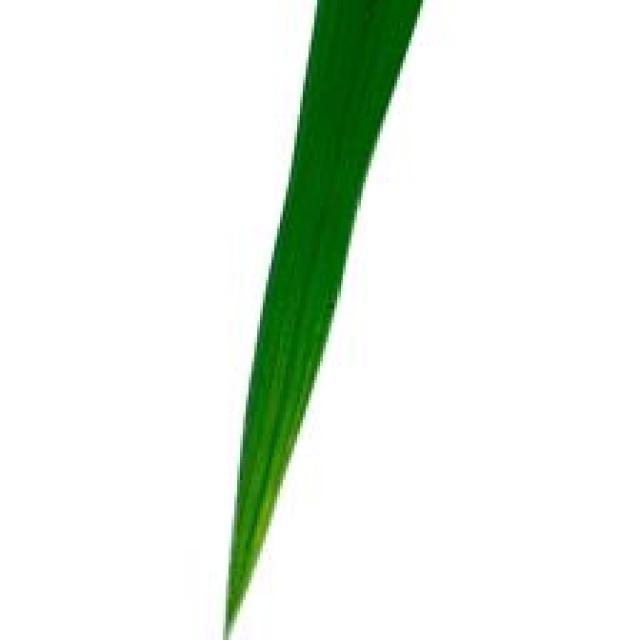Rice___Healthy_Rice_Plant: (224, 0, 424, 637)
